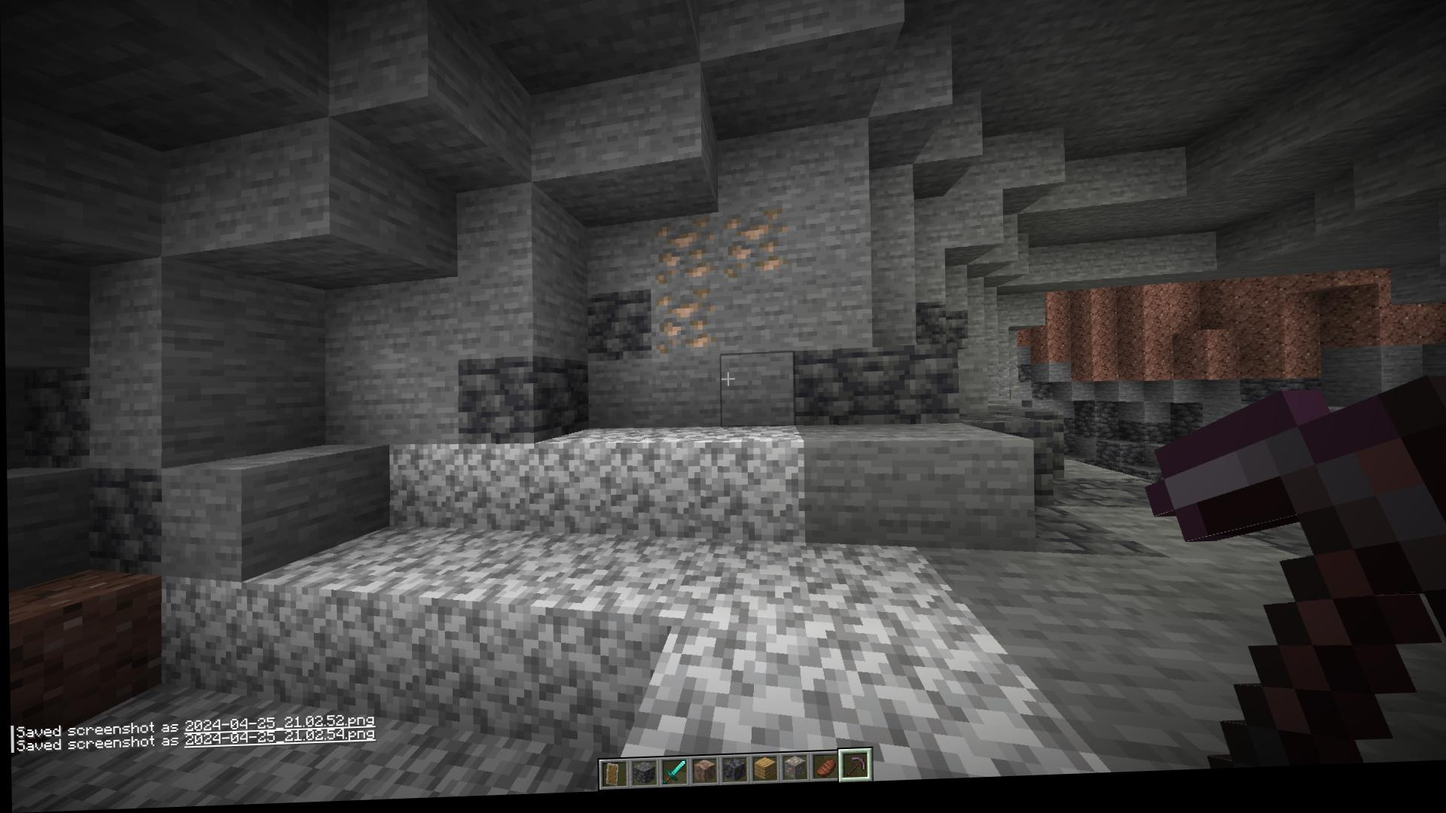iron ore: (715, 212, 788, 290), (649, 219, 716, 291), (650, 288, 716, 359)
